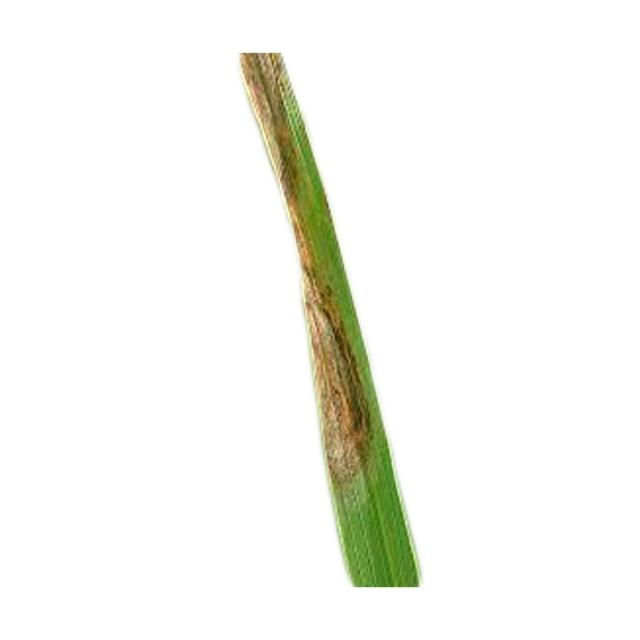Leaf scald: (205, 33, 476, 640)
